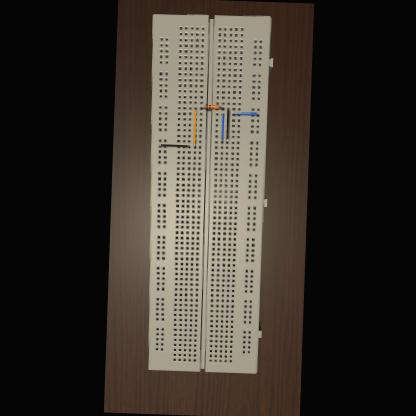breadboard: (140, 13, 274, 374)
resistor: (203, 104, 218, 110)
wire: (192, 108, 196, 148), (220, 114, 224, 144), (225, 108, 228, 143), (232, 112, 258, 116), (158, 144, 188, 147), (219, 107, 222, 110), (200, 106, 203, 109)
